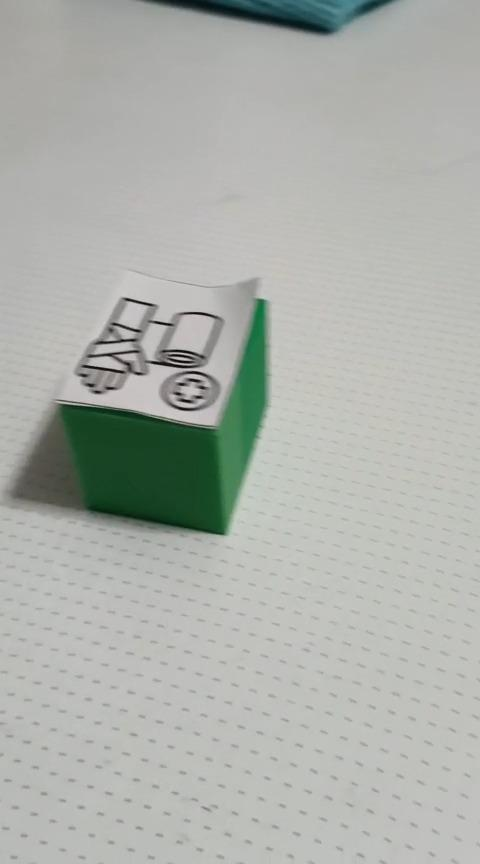Bandages: (51, 266, 270, 535)
